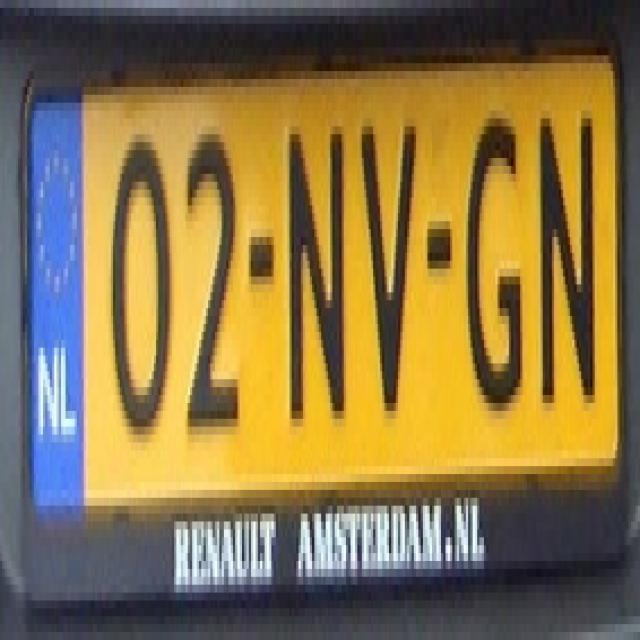licenseplate: (1, 8, 636, 627)
